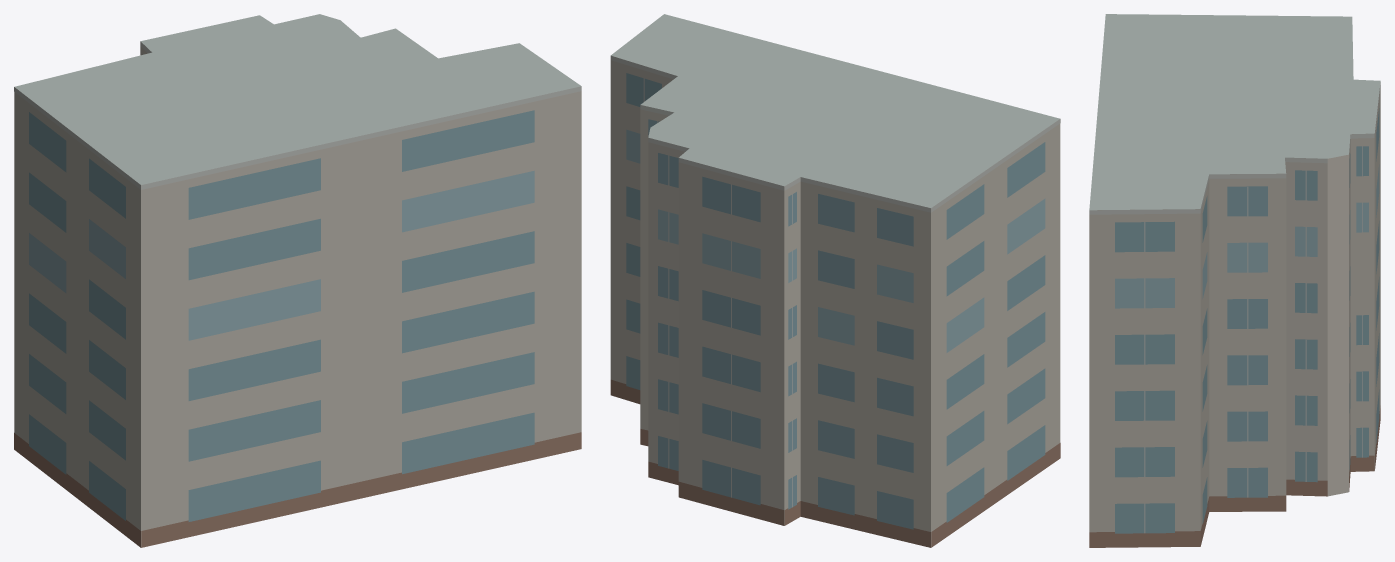
The model's file is survey-upis-32871614.glb.
3 views of the same model, side by side, from view 1: azimuth 30°, elevation 25°; view 2: azimuth 150°, elevation 25°; view 3: azimuth 270°, elevation 25° (orthographic). The views are drawn at different scales.
Parts seen in each view (by area): view 1: survey-upis-32871614.tmp; view 2: survey-upis-32871614.tmp; view 3: survey-upis-32871614.tmp.
Part boxes in pixels (<box>): survey-upis-32871614.tmp: <box>14,14,581,547</box>; survey-upis-32871614.tmp: <box>610,14,1060,547</box>; survey-upis-32871614.tmp: <box>1089,14,1380,547</box>.
Bounding box in the file's own units: 22.81 × 18.3 × 14.32.
